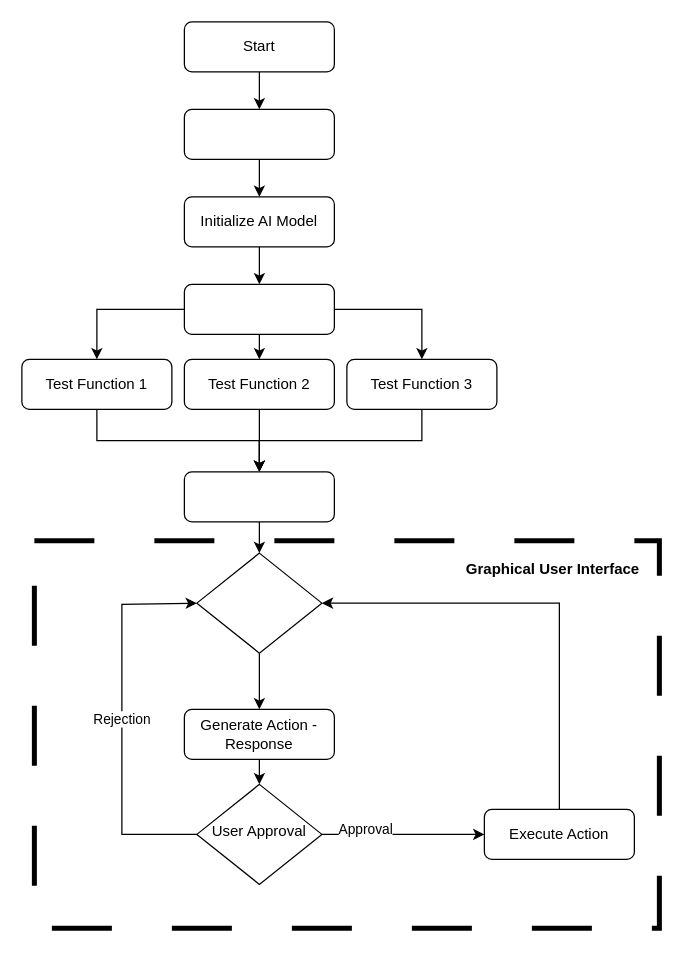
This 684x953 diagram has some shape labels left out. Here are the shapes that lost their labels. From the top down, the centre of each, then its label:
point 258,133: Load Data
point 258,308: Define Tools
point 258,496: Process Each Sentiment
point 259,602: User Input
